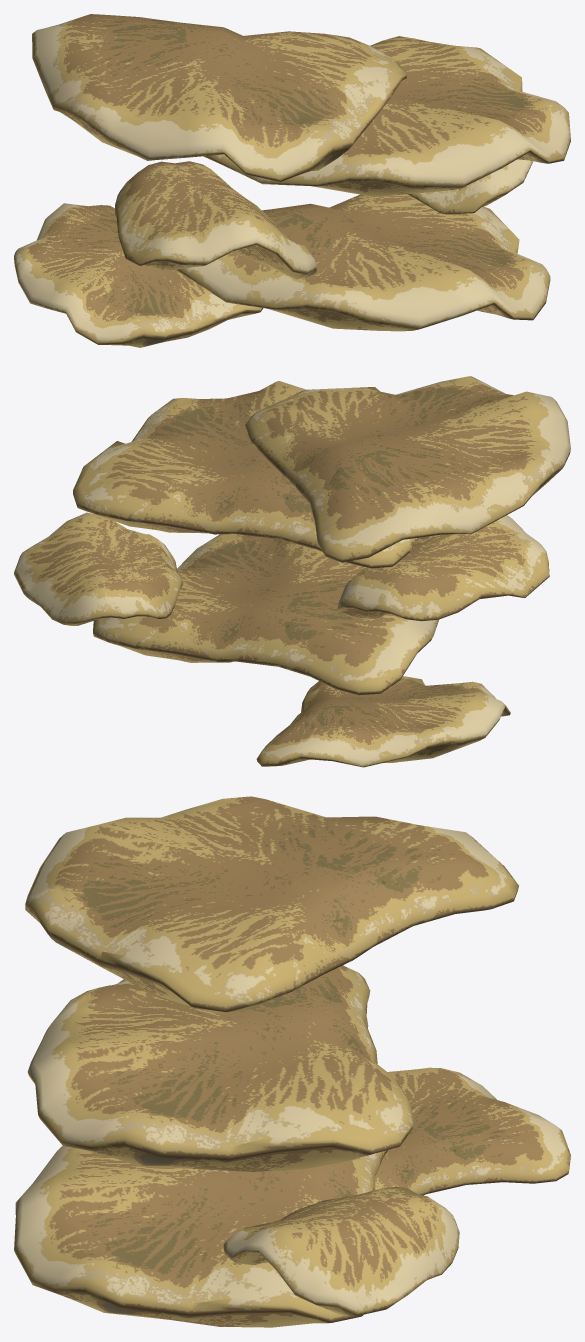
Rendered from Mushroom_Laetiporus__go_village.glb.
3 renders of one model, top to bottom at view 1: azimuth 30°, elevation 25°; view 2: azimuth 150°, elevation 25°; view 3: azimuth 270°, elevation 25°, orthographic. The views are drawn at different scales.
Parts seen in each view (by area): view 1: Mushroom_Laetiporus; view 2: Mushroom_Laetiporus; view 3: Mushroom_Laetiporus.
Boxes of the visible parts, bbox=[...] form: Mushroom_Laetiporus: bbox=[14, 14, 570, 347]; Mushroom_Laetiporus: bbox=[14, 376, 570, 767]; Mushroom_Laetiporus: bbox=[14, 796, 570, 1327].
Size of the model in its own units: 1.37 by 0.767 by 1.1.
1 material, 1 textured.
